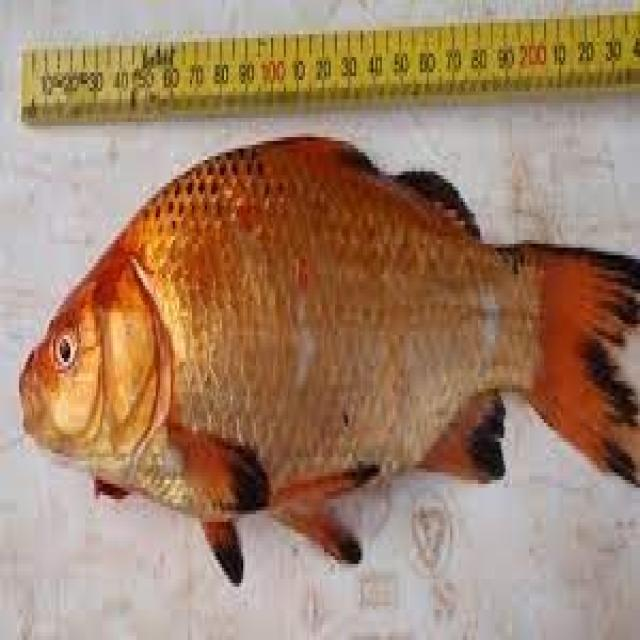Gold-Fish: (7, 100, 625, 582)
